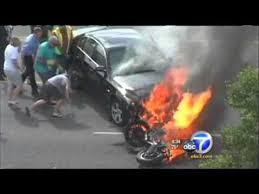fire: (117, 59, 216, 151)
